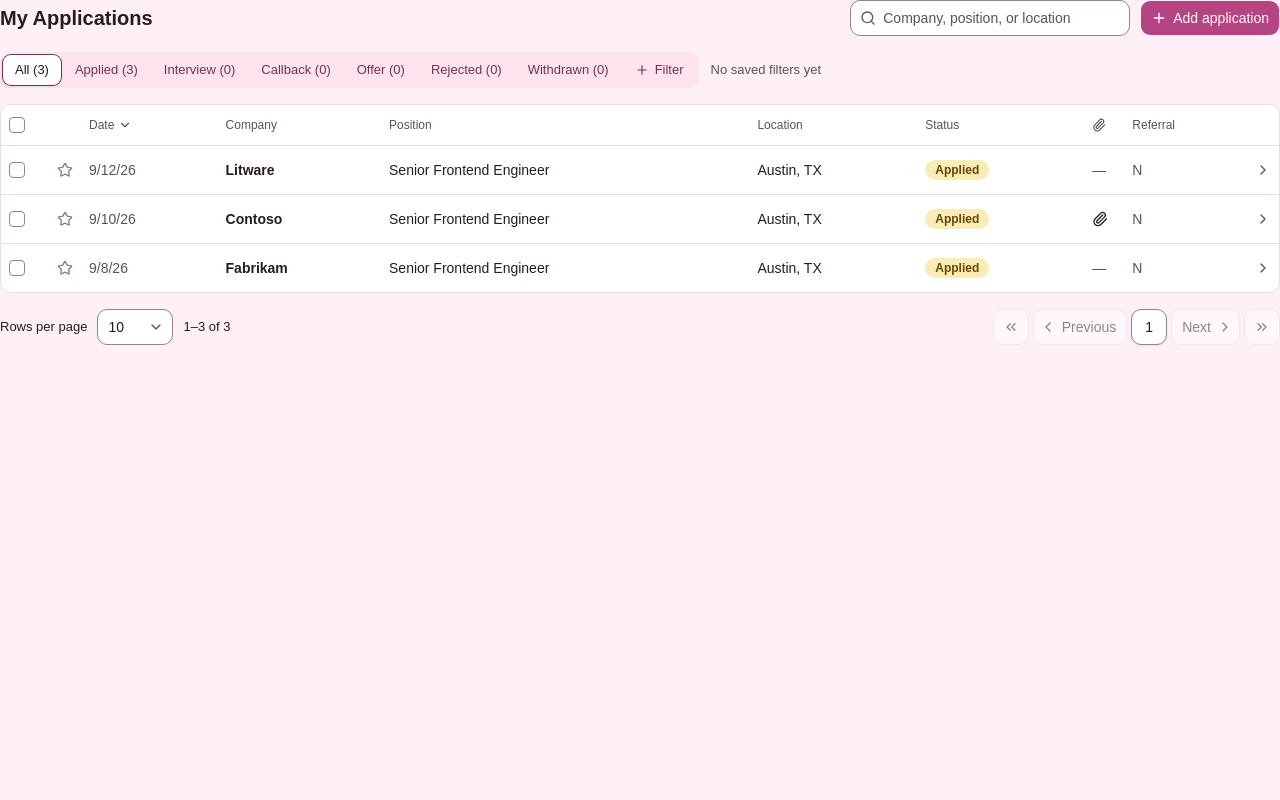
Scenario: bulk delete › asks the user to wait out the write limit, with no error reference (§7.1)
Click the checkbox named "Select Litware" at (17, 170), box [9,162,25,178]
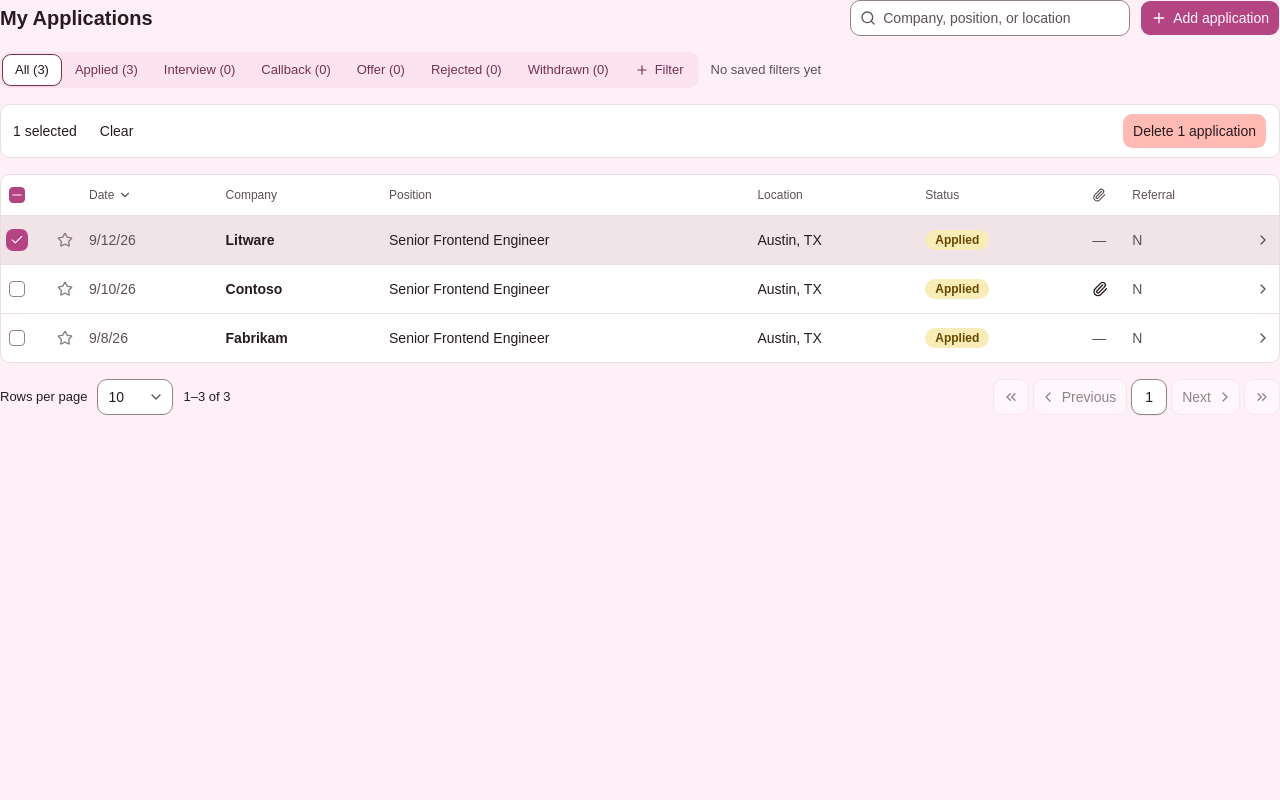
Click the button "Delete 1 application" at (1194, 131), box [1122,113,1267,149]
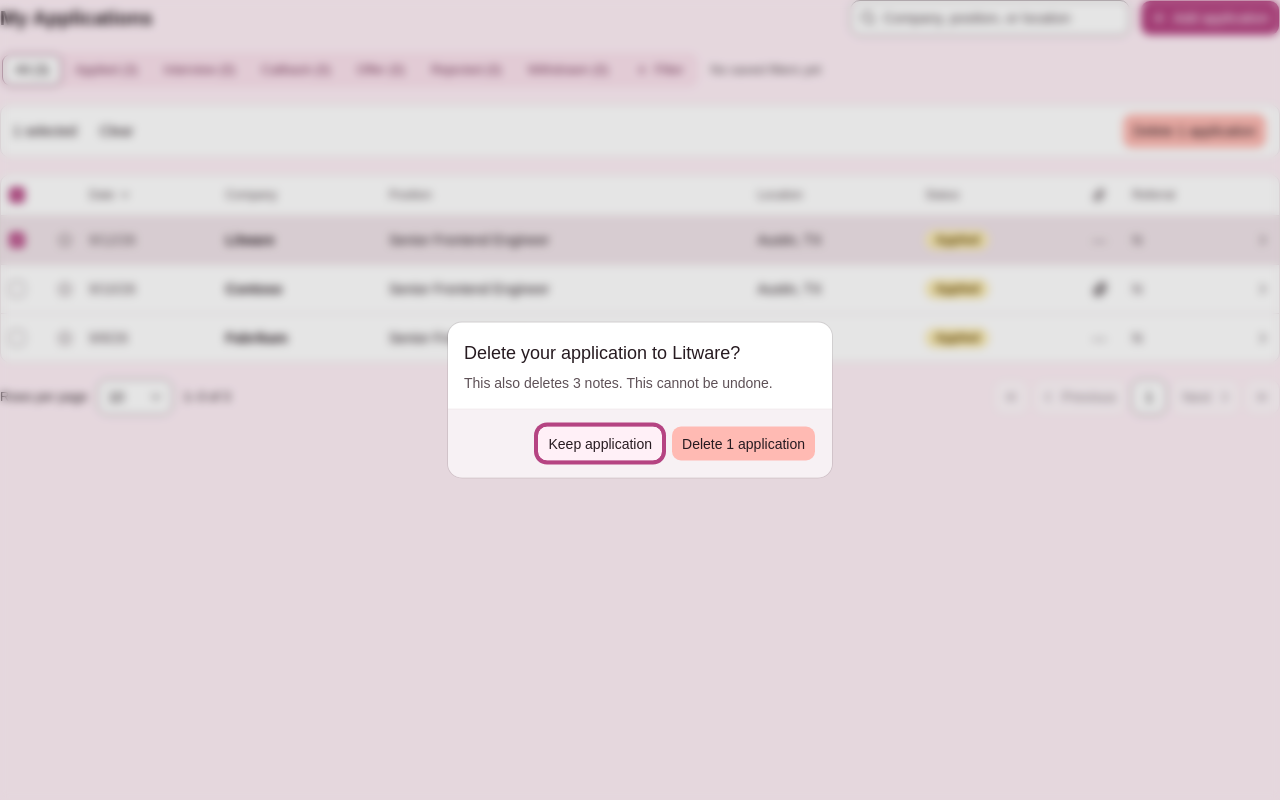
Expected: the button "Delete 1 application" is enabled
Click the button "Delete 1 application" at (744, 444), box [671,426,816,462]
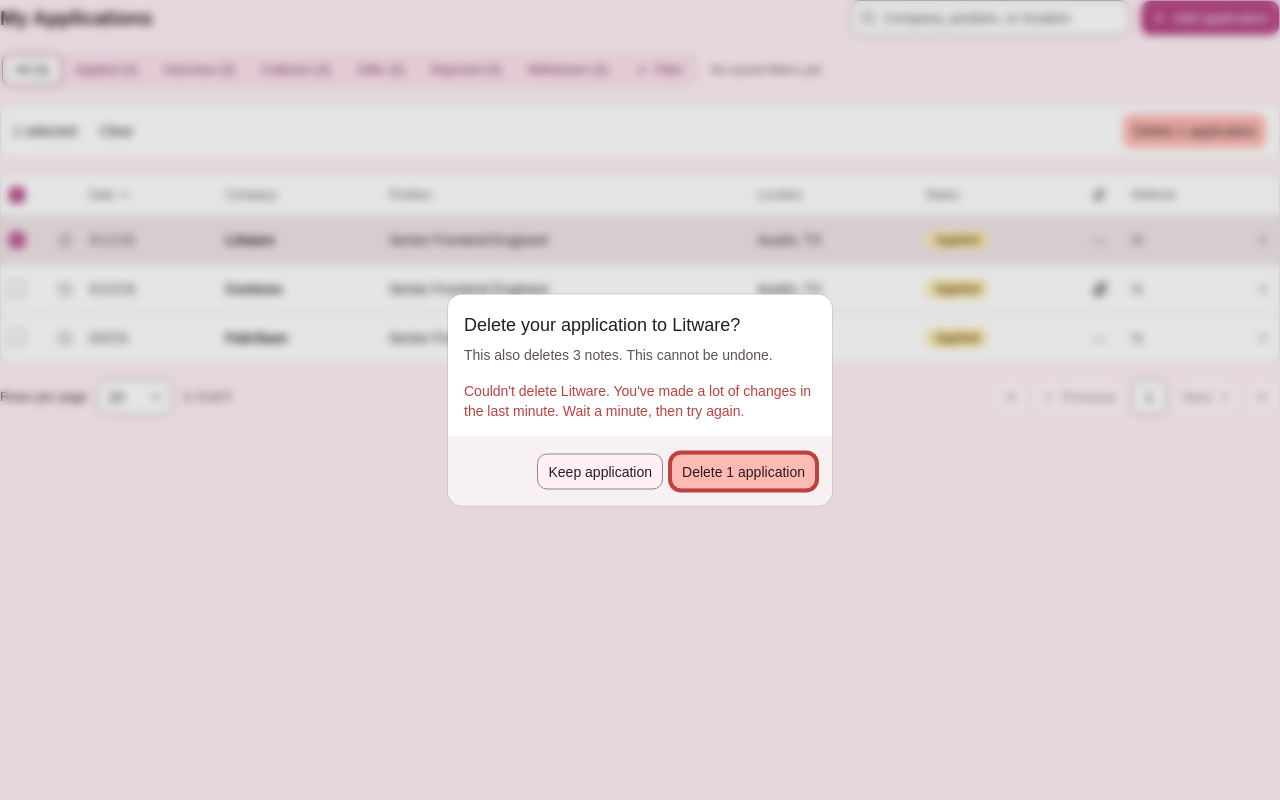
Expected: the message shows "Couldn't delete Litware. You've made a lot of changes in the last minute.", [464,382,811,418]
